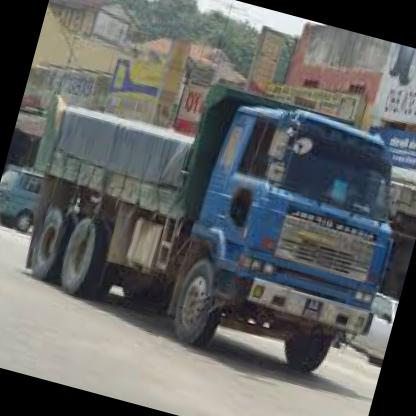truck: (156, 85, 416, 398)
